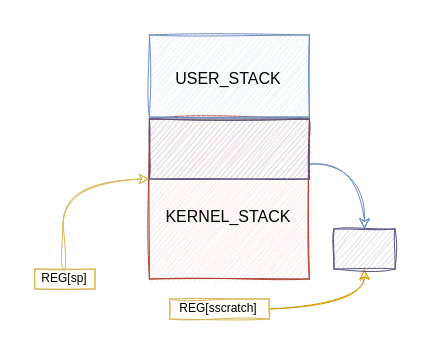
This 430x354 diagram has some shape labels left out. The shapes that lost their labels are listed below. From the top down, each one's centre as x and y in pixels, then its label:
pixel 228 148: TrapContext:: app_context
pixel 364 248: x[2] (sp)
